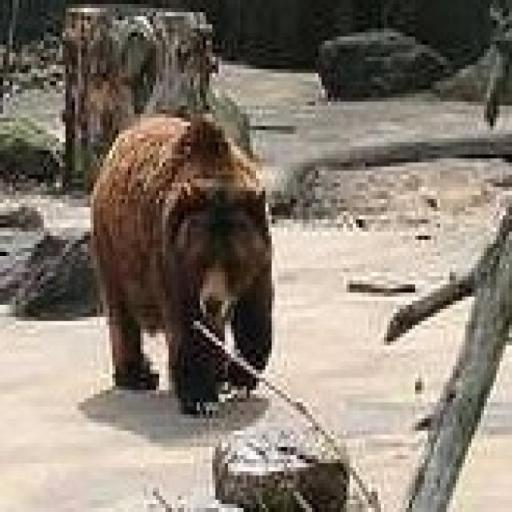Rhino: (88, 106, 274, 410)
